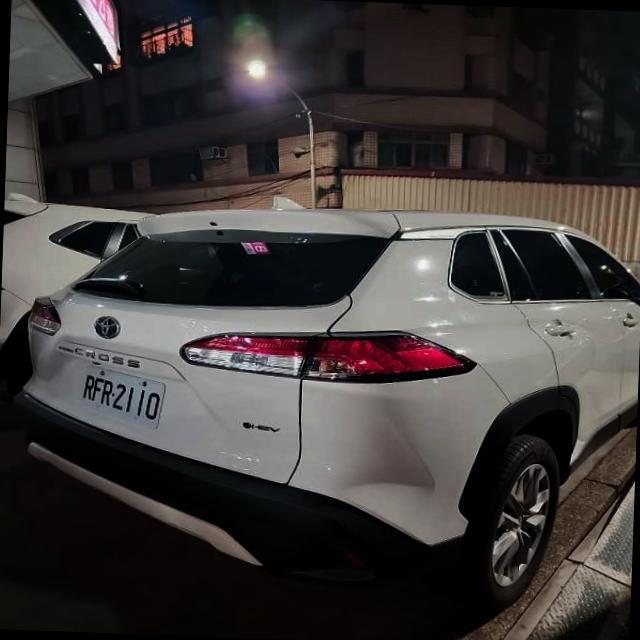license plate: (79, 366, 164, 426)
wheel: (468, 434, 558, 609)
